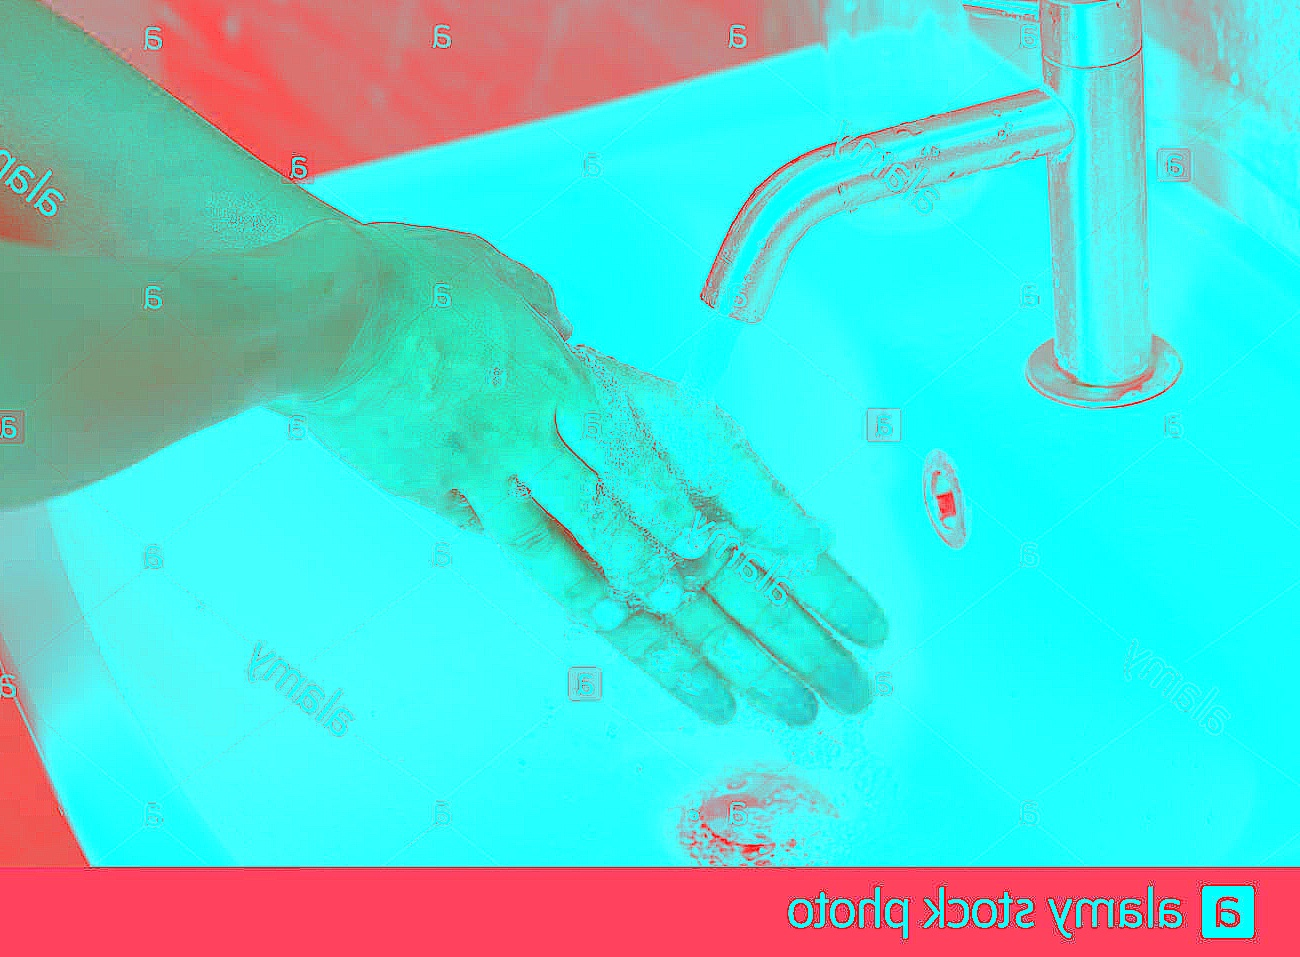washing hand: (397, 51, 1140, 771)
